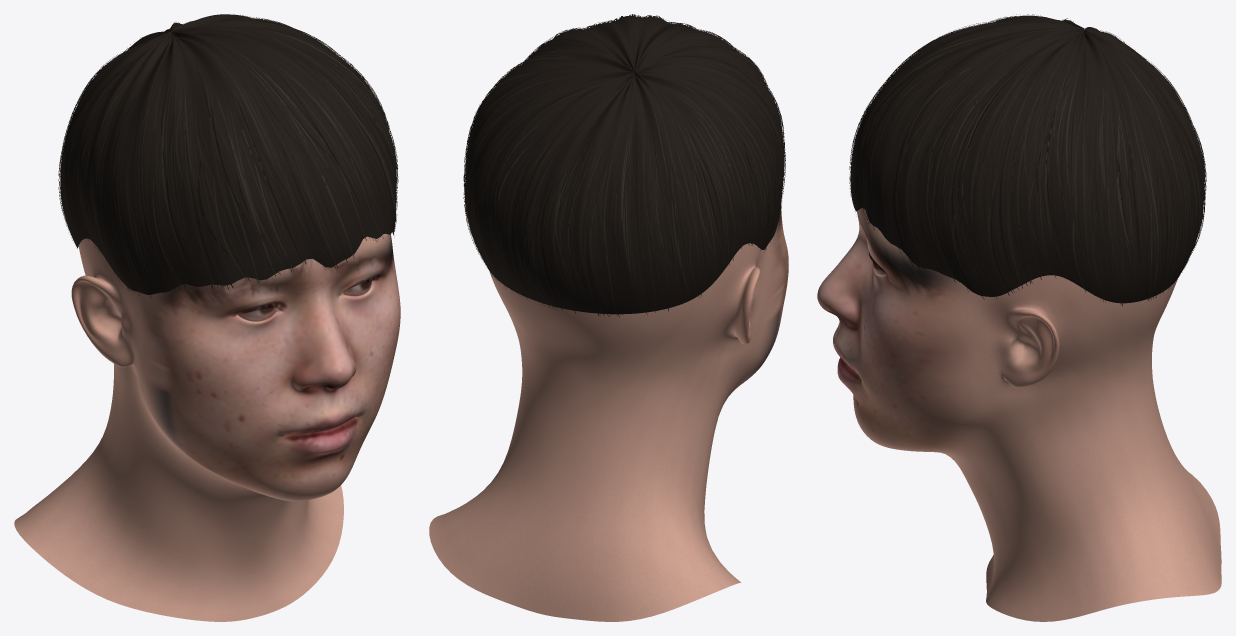
Rendered from wang.glb.
3 views of the same model, side by side, from view 1: azimuth 30°, elevation 25°; view 2: azimuth 150°, elevation 25°; view 3: azimuth 270°, elevation 25° (orthographic). The views are drawn at different scales.
Visible parts, largest first — view 1: 王楚钦 · 多角度拟合头模, 发型外层 · 低刘海与分层碎发, 碎发与发流; view 2: 王楚钦 · 多角度拟合头模, 发型外层 · 低刘海与分层碎发, 碎发与发流; view 3: 王楚钦 · 多角度拟合头模, 发型外层 · 低刘海与分层碎发, 碎发与发流.
Part boxes in pixels (x1,y1,x2,y2): 王楚钦 · 多角度拟合头模: (14,234,400,621); 发型外层 · 低刘海与分层碎发: (60,14,396,294); 碎发与发流: (58,14,398,298); 王楚钦 · 多角度拟合头模: (429,206,788,621); 发型外层 · 低刘海与分层碎发: (465,15,784,314); 碎发与发流: (463,14,785,317); 王楚钦 · 多角度拟合头模: (817,207,1221,621); 发型外层 · 低刘海与分层碎发: (850,15,1204,303); 碎发与发流: (849,14,1206,306).
Size of the model in its own units: 0.1784 by 0.3171 by 0.2079.
Materials: 7 (1 with a texture image).
